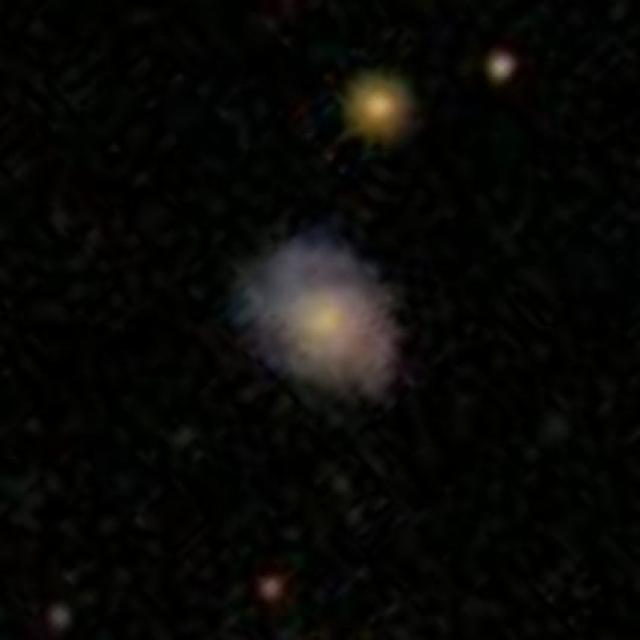galaxy: (225, 228, 412, 416), (338, 67, 418, 152), (484, 46, 522, 88), (41, 599, 83, 637), (254, 572, 289, 608)
